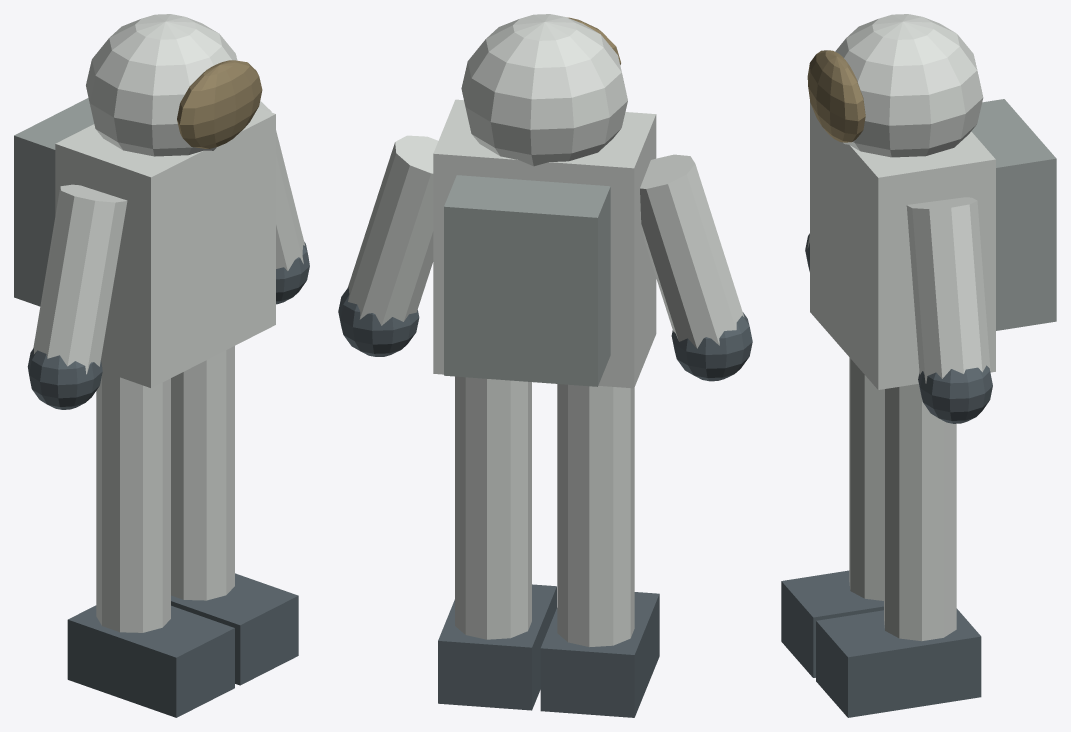
Rendered from nobile-rim-1.astronaut.glb.
The picture shows the model from 3 angles, left to right: view 1: azimuth 30°, elevation 25°; view 2: azimuth 150°, elevation 25°; view 3: azimuth 270°, elevation 25°; orthographic projection. The views are drawn at different scales.
Visible parts, largest first — view 1: Astronaut_torso, Astronaut_leg_L, Astronaut_leg_R, Astronaut_helmet, Astronaut_boot_L, Astronaut_arm_L, Astronaut_backpack, Astronaut_boot_R, Astronaut_visor, Astronaut_glove_L, Astronaut_arm_R, Astronaut_glove_R; view 2: Astronaut_backpack, Astronaut_leg_L, Astronaut_helmet, Astronaut_leg_R, Astronaut_torso, Astronaut_arm_L, Astronaut_arm_R, Astronaut_boot_L, Astronaut_boot_R, Astronaut_glove_L, Astronaut_glove_R; view 3: Astronaut_torso, Astronaut_leg_R, Astronaut_helmet, Astronaut_boot_R, Astronaut_backpack, Astronaut_arm_R, Astronaut_leg_L, Astronaut_boot_L, Astronaut_visor, Astronaut_glove_R.
Boxes of the visible parts, bbox=[...] form: Astronaut_torso: bbox=[55, 108, 275, 387]; Astronaut_leg_L: bbox=[96, 371, 170, 632]; Astronaut_leg_R: bbox=[171, 346, 234, 600]; Astronaut_helmet: bbox=[86, 14, 237, 156]; Astronaut_boot_L: bbox=[67, 605, 234, 717]; Astronaut_arm_L: bbox=[33, 184, 127, 374]; Astronaut_backpack: bbox=[14, 98, 94, 306]; Astronaut_boot_R: bbox=[171, 573, 298, 685]; Astronaut_visor: bbox=[177, 60, 262, 148]; Astronaut_glove_L: bbox=[27, 348, 102, 409]; Astronaut_arm_R: bbox=[258, 101, 304, 270]; Astronaut_glove_R: bbox=[276, 242, 309, 304]; Astronaut_backpack: bbox=[444, 175, 610, 386]; Astronaut_leg_L: bbox=[557, 384, 634, 646]; Astronaut_helmet: bbox=[461, 14, 627, 166]; Astronaut_leg_R: bbox=[455, 376, 531, 639]; Astronaut_torso: bbox=[433, 99, 656, 388]; Astronaut_arm_L: bbox=[640, 154, 744, 348]; Astronaut_arm_R: bbox=[347, 135, 438, 325]; Astronaut_boot_L: bbox=[540, 592, 659, 717]; Astronaut_boot_R: bbox=[438, 584, 556, 710]; Astronaut_glove_L: bbox=[671, 312, 752, 381]; Astronaut_glove_R: bbox=[338, 287, 419, 356]; Astronaut_torso: bbox=[810, 102, 995, 389]; Astronaut_leg_R: bbox=[884, 384, 956, 641]; Astronaut_helmet: bbox=[835, 14, 983, 157]; Astronaut_boot_R: bbox=[816, 608, 981, 717]; Astronaut_backpack: bbox=[971, 99, 1056, 330]; Astronaut_arm_R: bbox=[906, 197, 990, 383]; Astronaut_leg_L: bbox=[849, 357, 883, 600]; Astronaut_boot_L: bbox=[781, 570, 883, 677]; Astronaut_visor: bbox=[807, 50, 865, 142]; Astronaut_glove_R: bbox=[918, 365, 992, 423].
Size of the model in its own units: 0.9173 by 1.7 by 0.6579.
